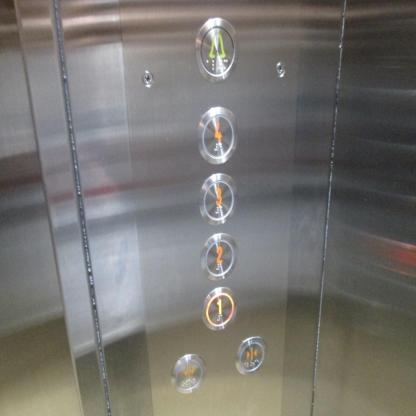1: (198, 281, 238, 335)
2: (197, 228, 241, 287)
3: (196, 170, 240, 227)
4: (194, 103, 241, 167)
alarm: (194, 14, 239, 85)
close: (233, 334, 266, 376)
open: (168, 349, 208, 398)
